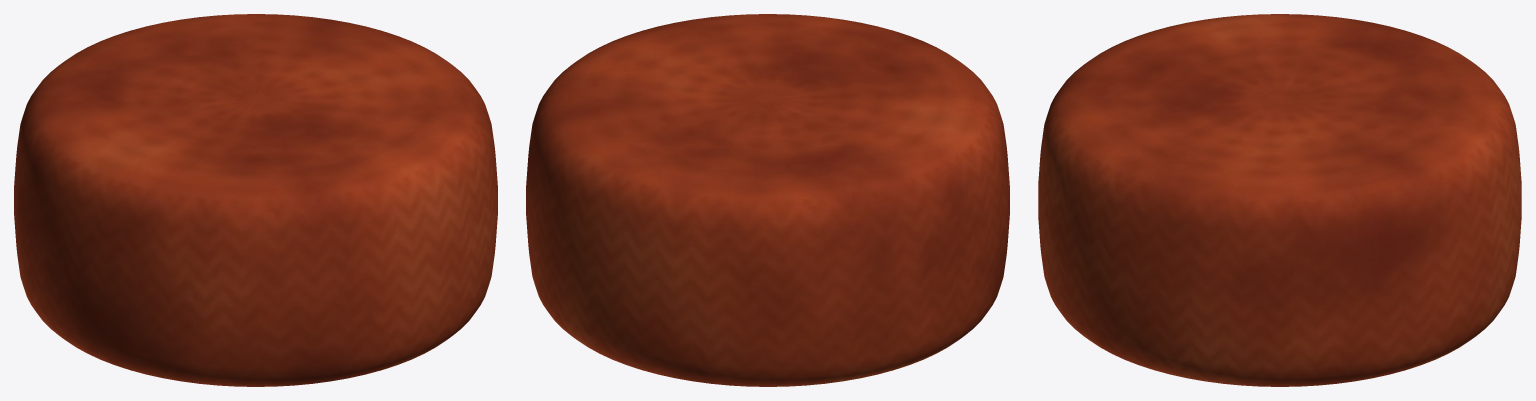
File: queso_pimenton.glb
The picture shows the model from 3 angles, left to right: view 1: azimuth 30°, elevation 25°; view 2: azimuth 150°, elevation 25°; view 3: azimuth 270°, elevation 25°; orthographic projection.
Visible parts, largest first — view 1: queso_pimenton; view 2: queso_pimenton; view 3: queso_pimenton.
Boxes of the visible parts, x1,y1,x2,y2 form: queso_pimenton: (14,14,497,386); queso_pimenton: (526,14,1009,386); queso_pimenton: (1038,14,1521,386).
Bounding box in the file's own units: 0.2157 × 0.1 × 0.2157.
Materials: 1 (1 with a texture image).
